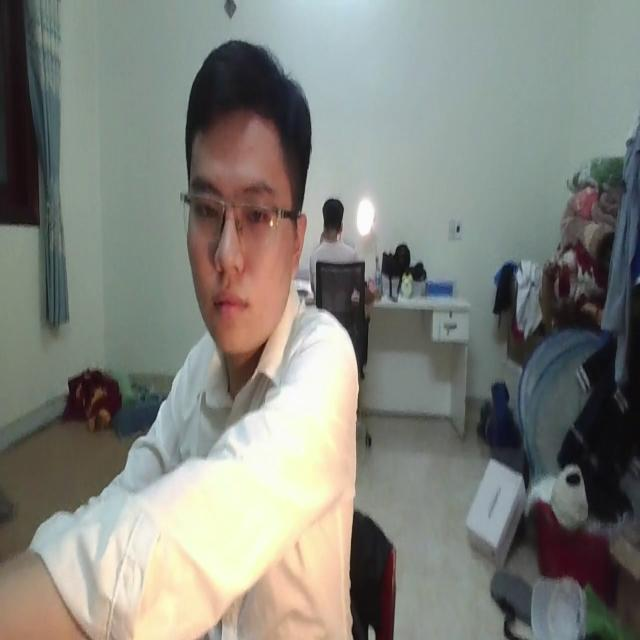extra_person: (311, 188, 368, 331)
student: (1, 41, 363, 640)
